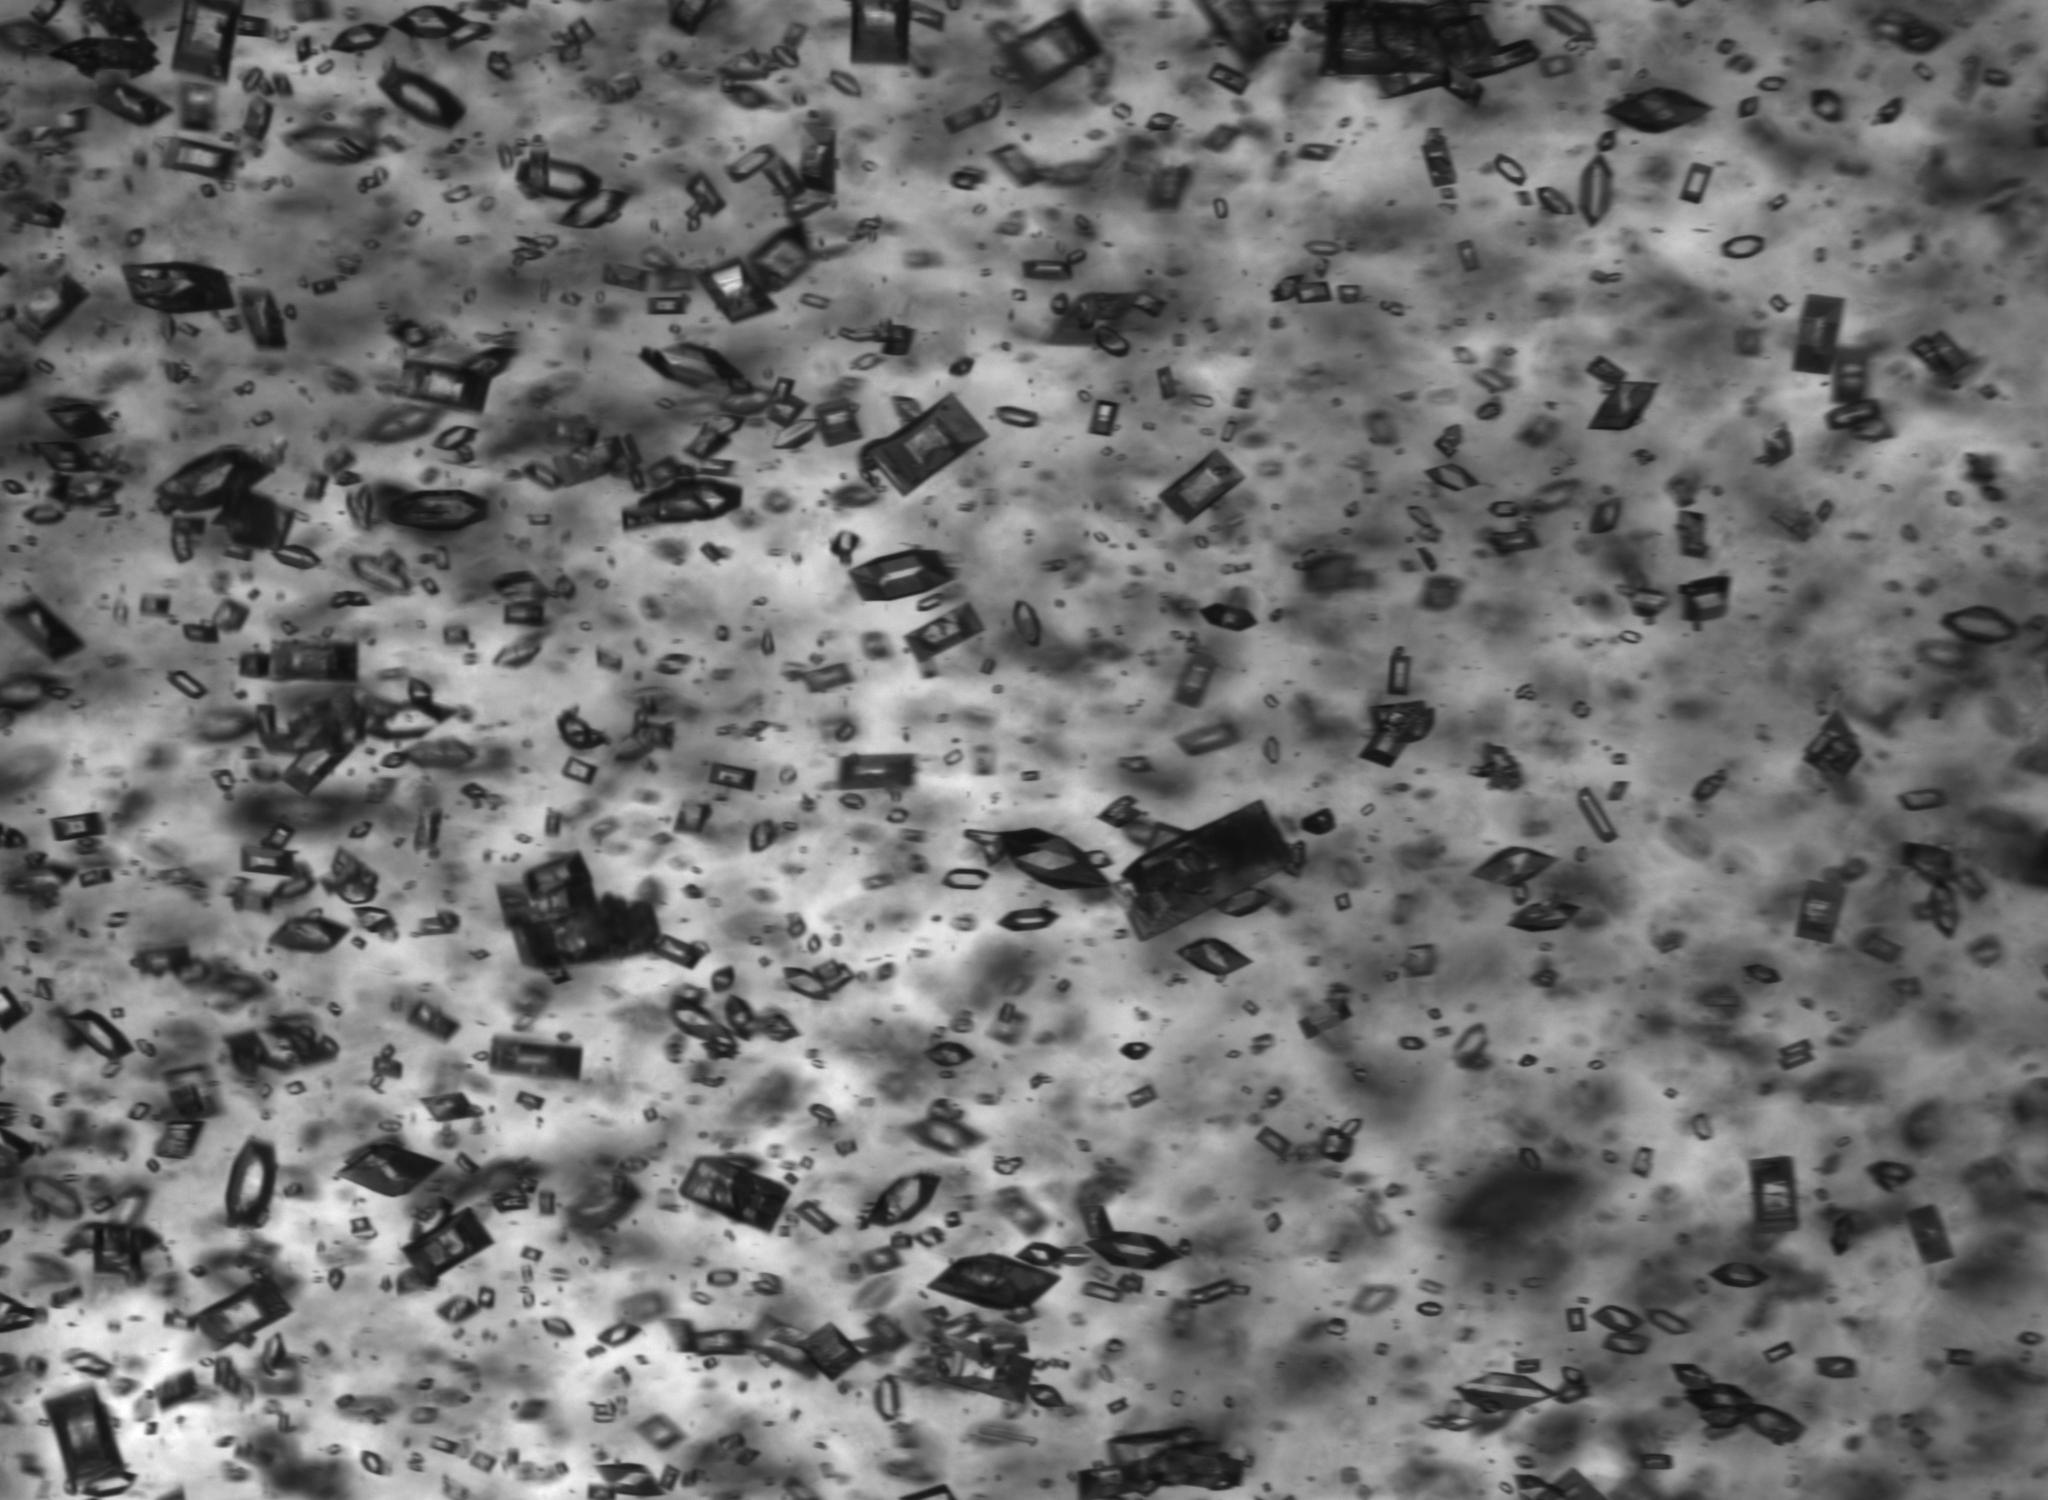crystal: (1105, 799, 1296, 942), (1321, 0, 1538, 100), (498, 853, 666, 975), (1075, 1425, 1248, 1500), (859, 396, 987, 493), (1673, 1365, 1805, 1444), (695, 1319, 868, 1379), (43, 1387, 135, 1500), (188, 1263, 293, 1350), (970, 829, 1110, 892), (681, 1155, 790, 1231), (393, 345, 514, 414), (1000, 13, 1104, 91), (396, 1209, 493, 1292), (1900, 843, 1983, 937), (929, 1252, 1057, 1311), (526, 414, 625, 488), (159, 447, 272, 512), (932, 1333, 1034, 1405), (277, 719, 356, 800), (641, 344, 755, 399), (374, 65, 466, 134), (623, 476, 741, 528), (337, 1139, 442, 1198), (1159, 452, 1245, 523), (227, 1023, 337, 1078), (172, 3, 245, 84), (124, 261, 234, 313), (849, 547, 954, 601), (514, 138, 603, 202), (372, 485, 488, 533), (668, 983, 739, 1059), (2, 600, 86, 663), (1360, 700, 1436, 767), (1608, 86, 1711, 134), (224, 1139, 278, 1228), (391, 6, 495, 52), (213, 495, 296, 552), (749, 224, 816, 294), (1795, 872, 1860, 943), (860, 1171, 941, 1228), (905, 1101, 986, 1158), (1445, 1371, 1555, 1413), (1749, 1156, 1800, 1245), (19, 275, 91, 337), (1792, 294, 1844, 375), (906, 606, 983, 662), (849, 0, 913, 65), (703, 259, 771, 320), (1906, 329, 1975, 390), (57, 1008, 134, 1063), (1803, 713, 1862, 783), (488, 1037, 582, 1080), (1083, 1233, 1181, 1273), (1472, 846, 1557, 891), (366, 700, 458, 740), (723, 996, 800, 1043), (1585, 380, 1657, 431), (164, 135, 242, 181), (164, 1064, 224, 1123), (270, 641, 359, 681), (836, 751, 917, 794), (270, 908, 348, 953), (97, 80, 172, 126), (239, 286, 288, 355), (46, 38, 157, 68), (1501, 897, 1582, 937), (558, 186, 633, 229), (838, 318, 917, 358), (1177, 937, 1250, 980), (1514, 1468, 1612, 1500), (784, 959, 854, 1004), (321, 846, 375, 903), (1903, 1204, 1954, 1265), (609, 721, 676, 765), (1170, 649, 1218, 711), (1943, 606, 2019, 644), (1825, 398, 1891, 442), (94, 1225, 145, 1280), (24, 1174, 83, 1222), (1678, 574, 1730, 627), (495, 568, 544, 624), (41, 402, 113, 441), (1169, 721, 1242, 757), (989, 143, 1046, 189), (1577, 153, 1614, 224), (687, 415, 743, 461), (1296, 997, 1355, 1040), (816, 396, 863, 449), (1471, 743, 1523, 791), (1576, 787, 1619, 843), (1313, 1117, 1364, 1163), (555, 711, 607, 756), (1420, 129, 1458, 189), (1388, 942, 1444, 983), (33, 441, 102, 474), (800, 122, 833, 191), (407, 1002, 461, 1043), (353, 550, 407, 592), (1212, 883, 1274, 918), (762, 156, 808, 202), (1267, 274, 1334, 305), (153, 1368, 200, 1413), (927, 1312, 984, 1349), (599, 1463, 665, 1495), (666, 0, 725, 35), (862, 1234, 911, 1276), (421, 1091, 482, 1125), (728, 143, 774, 186), (1420, 461, 1482, 493), (652, 935, 708, 970), (636, 1413, 684, 1452), (685, 172, 725, 220), (863, 1314, 913, 1352), (765, 391, 809, 433), (1542, 5, 1595, 40), (0, 1293, 46, 1333), (1255, 1125, 1301, 1164), (153, 1121, 200, 1160), (331, 22, 390, 52), (720, 387, 779, 417), (803, 660, 855, 694), (1204, 62, 1253, 97), (172, 515, 207, 565), (49, 811, 105, 841), (135, 945, 191, 975), (587, 73, 642, 103), (1453, 1023, 1488, 1071), (771, 418, 824, 450), (1590, 1303, 1644, 1333), (717, 52, 773, 81), (995, 908, 1057, 934), (1555, 1366, 1593, 1408), (1199, 603, 1256, 630), (1709, 1261, 1767, 1288), (240, 848, 297, 875), (64, 1349, 114, 1379), (709, 760, 757, 792), (941, 102, 986, 135), (1011, 601, 1043, 647), (1897, 786, 1948, 814), (798, 1199, 838, 1236), (0, 1126, 37, 1166), (1679, 162, 1714, 204), (604, 261, 647, 294), (1584, 355, 1628, 387), (1488, 154, 1528, 189), (1679, 509, 1706, 560), (17, 202, 68, 229), (1762, 425, 1794, 468), (1860, 932, 1903, 964), (1097, 797, 1142, 827), (1628, 589, 1673, 619), (1690, 768, 1727, 805), (1487, 530, 1539, 555), (979, 1333, 1029, 1360), (0, 986, 29, 1032), (1091, 326, 1132, 358), (436, 1295, 479, 1325), (1016, 1241, 1067, 1266), (1185, 1280, 1235, 1306), (875, 1376, 902, 1424), (245, 95, 272, 143), (1813, 86, 1848, 122), (1078, 1204, 1115, 1239), (673, 800, 711, 834), (1587, 496, 1620, 534), (828, 530, 862, 568), (415, 808, 444, 853), (211, 601, 251, 633), (1088, 399, 1121, 436), (272, 544, 320, 569), (927, 1042, 975, 1067), (596, 1320, 644, 1346), (1719, 234, 1767, 259), (431, 425, 479, 450), (355, 905, 396, 934), (167, 670, 208, 698), (1431, 422, 1461, 460), (908, 0, 946, 30), (390, 320, 429, 348), (318, 444, 355, 474), (1131, 290, 1167, 320), (1649, 1311, 1692, 1336), (213, 1355, 242, 1393), (749, 816, 776, 856), (1387, 652, 1410, 697), (495, 644, 539, 668), (1022, 259, 1073, 280), (232, 888, 273, 913), (903, 1481, 957, 1500), (1536, 188, 1574, 215), (21, 504, 67, 527), (261, 1331, 285, 1374), (1534, 54, 1577, 78), (941, 869, 991, 889), (1782, 1037, 1813, 1071), (566, 14, 596, 48), (259, 822, 294, 851), (994, 406, 1038, 428), (1760, 1341, 1797, 1368), (272, 875, 313, 899), (1601, 1336, 1652, 1355), (655, 651, 693, 676), (56, 107, 87, 137), (558, 759, 598, 783), (1744, 962, 1784, 986), (181, 622, 221, 646), (1027, 1384, 1067, 1408), (1453, 239, 1480, 274), (332, 137, 367, 164), (1817, 1355, 1859, 1378), (1301, 810, 1334, 837), (423, 910, 460, 934), (1437, 1413, 1480, 1432), (512, 235, 542, 262), (890, 396, 922, 422), (1630, 1147, 1654, 1180), (1081, 1280, 1119, 1301), (491, 1191, 529, 1212), (254, 703, 277, 738), (770, 375, 795, 406), (711, 964, 735, 996), (304, 471, 328, 503), (542, 1315, 576, 1338), (1145, 110, 1178, 132), (1296, 143, 1337, 161), (698, 457, 733, 477), (833, 72, 863, 95), (914, 1226, 946, 1249), (1156, 364, 1175, 401), (1057, 1247, 1094, 1266), (329, 590, 369, 608), (80, 867, 113, 888), (773, 45, 800, 70), (240, 654, 269, 678), (444, 183, 474, 205), (650, 296, 685, 315), (469, 1449, 496, 1473), (1129, 1085, 1158, 1107), (375, 1056, 404, 1078), (1118, 1274, 1148, 1295), (142, 595, 172, 616), (1692, 1112, 1712, 1142), (1118, 756, 1153, 773), (429, 1435, 461, 1454), (798, 291, 830, 310), (514, 1090, 545, 1109), (1003, 1304, 1035, 1323), (994, 1153, 1021, 1176), (735, 1446, 762, 1468), (1519, 1147, 1541, 1174), (310, 277, 339, 297), (246, 407, 275, 428), (696, 541, 725, 562), (1118, 1042, 1151, 1059), (808, 1104, 838, 1123), (537, 1188, 557, 1218), (1911, 60, 1935, 84), (598, 647, 622, 671), (1566, 1308, 1588, 1333), (361, 1451, 383, 1476), (487, 51, 509, 76), (409, 678, 431, 703), (1515, 1355, 1542, 1376), (1566, 698, 1593, 719), (555, 574, 576, 601), (717, 1433, 746, 1452), (1738, 94, 1760, 118), (455, 1152, 479, 1174), (863, 873, 897, 889), (1232, 387, 1255, 410), (660, 1468, 681, 1494), (1407, 506, 1433, 527), (1476, 401, 1501, 422), (1304, 242, 1340, 256), (758, 630, 778, 657), (1418, 547, 1437, 574), (1754, 78, 1786, 94), (1263, 735, 1280, 764), (1511, 684, 1539, 701), (1417, 1277, 1445, 1295), (1608, 779, 1630, 802), (1337, 285, 1361, 305), (1641, 1454, 1671, 1470), (587, 1486, 620, 1500), (1487, 501, 1520, 515), (840, 792, 867, 810), (1948, 1347, 1975, 1365), (595, 1401, 617, 1422), (33, 978, 54, 1001), (91, 1195, 114, 1214), (211, 770, 235, 789), (1250, 1032, 1274, 1051), (952, 172, 978, 189), (245, 67, 262, 92), (105, 911, 130, 929), (832, 1139, 857, 1156), (917, 593, 943, 611), (1617, 628, 1644, 644), (518, 1245, 545, 1261), (382, 752, 409, 768), (1263, 1212, 1283, 1233), (273, 75, 294, 95), (1768, 192, 1789, 213), (833, 722, 855, 741), (328, 1268, 345, 1292), (297, 35, 312, 64), (461, 781, 487, 797), (175, 321, 200, 337), (1110, 102, 1131, 121), (420, 577, 440, 597), (1049, 293, 1067, 315), (129, 1102, 151, 1120), (33, 358, 56, 375), (216, 315, 239, 332), (997, 1004, 1014, 1026), (334, 471, 361, 485), (706, 1271, 736, 1284), (1399, 1036, 1423, 1051), (350, 821, 374, 837), (445, 627, 469, 643), (1417, 1301, 1442, 1315), (404, 208, 423, 227), (1768, 294, 1787, 313), (1336, 892, 1353, 913), (1326, 1317, 1347, 1335), (943, 749, 964, 767), (1220, 422, 1237, 442), (102, 1061, 122, 1078), (628, 469, 646, 490), (1108, 1398, 1131, 1414), (887, 808, 910, 824), (434, 547, 450, 569), (134, 1039, 156, 1055), (1188, 394, 1215, 407), (479, 1285, 493, 1309), (1714, 38, 1738, 52), (685, 202, 704, 220), (351, 1217, 372, 1233), (445, 138, 466, 154), (714, 624, 731, 641), (199, 183, 218, 199), (1215, 197, 1229, 218), (560, 291, 580, 305), (684, 884, 704, 899), (1046, 1357, 1069, 1370), (946, 1210, 962, 1228), (363, 175, 380, 191), (642, 1106, 658, 1123), (1243, 1001, 1261, 1016), (1069, 250, 1086, 266), (286, 1080, 305, 1094), (528, 514, 552, 525), (1374, 1341, 1390, 1357), (979, 659, 995, 674), (1390, 301, 1406, 317), (1019, 770, 1041, 781), (808, 934, 820, 953), (1172, 1389, 1185, 1408), (859, 218, 879, 229), (1360, 802, 1375, 816), (318, 60, 334, 75), (1520, 1055, 1538, 1067), (1105, 1339, 1123, 1352), (1178, 1238, 1191, 1255), (1264, 694, 1278, 708), (417, 1378, 432, 1390), (455, 234, 472, 245), (285, 304, 296, 321), (146, 1160, 161, 1172), (1196, 536, 1208, 549), (1328, 1250, 1340, 1263), (1078, 390, 1091, 401), (1094, 533, 1108, 542)
